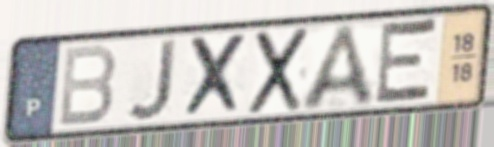A: (297, 21, 380, 114)
B: (55, 42, 119, 130)
E: (371, 15, 441, 108)
J: (124, 36, 180, 124)
X: (244, 24, 312, 119), (181, 31, 250, 121)
